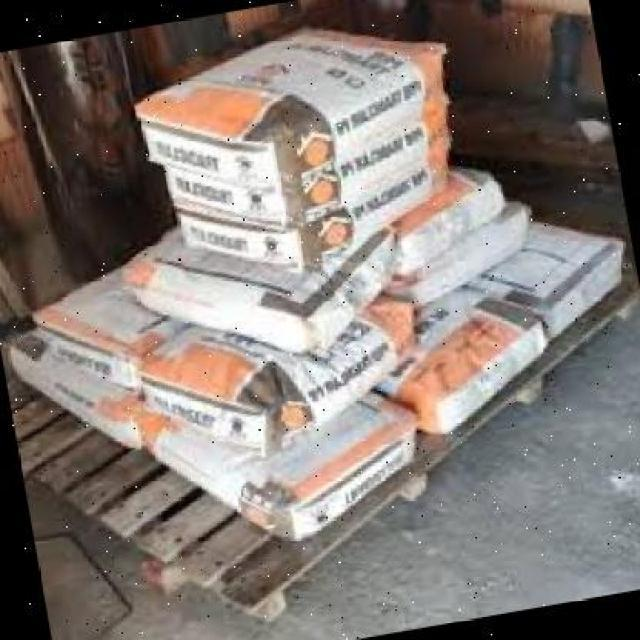gunny_bag: (280, 306, 419, 439), (147, 416, 293, 539), (402, 204, 535, 312), (433, 319, 558, 433), (289, 229, 401, 353), (14, 350, 145, 449), (390, 179, 502, 273), (138, 113, 277, 186), (543, 245, 626, 341), (165, 163, 283, 227), (34, 316, 135, 384), (181, 209, 302, 264)
